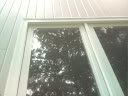window: (31, 25, 85, 96), (103, 26, 127, 60)
